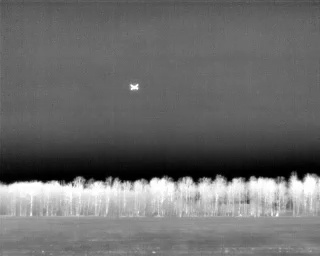DRONE: (126, 78, 143, 95)
